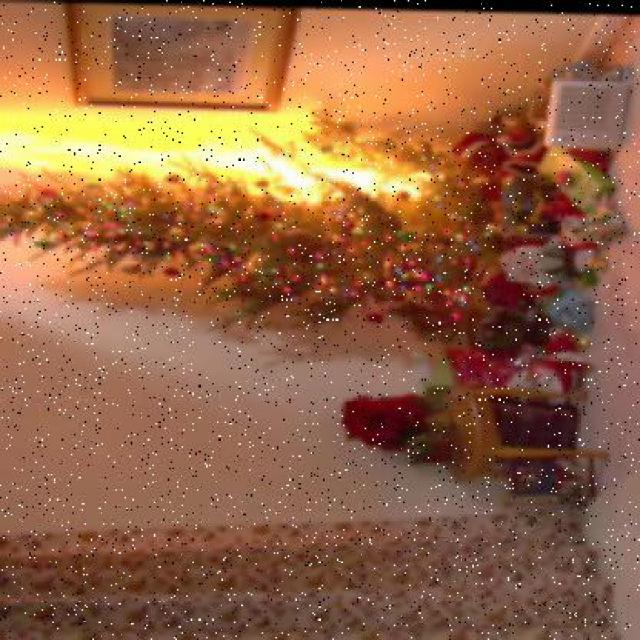fire: (1, 108, 441, 217)
